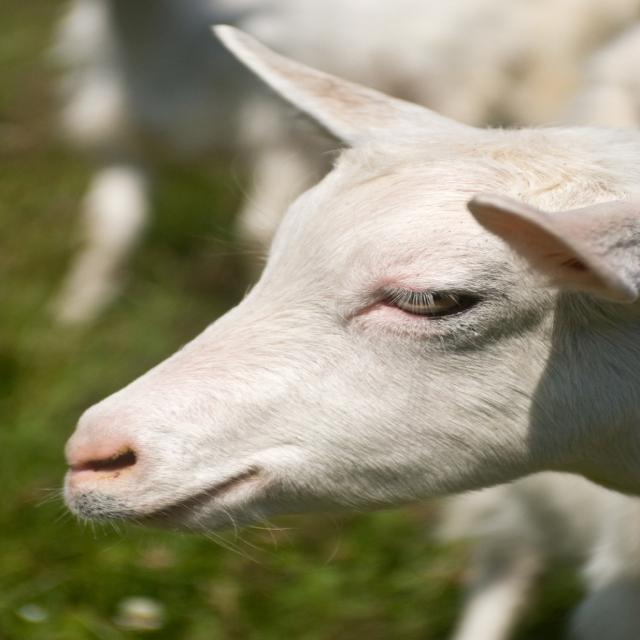Goat: (25, 23, 640, 564)
